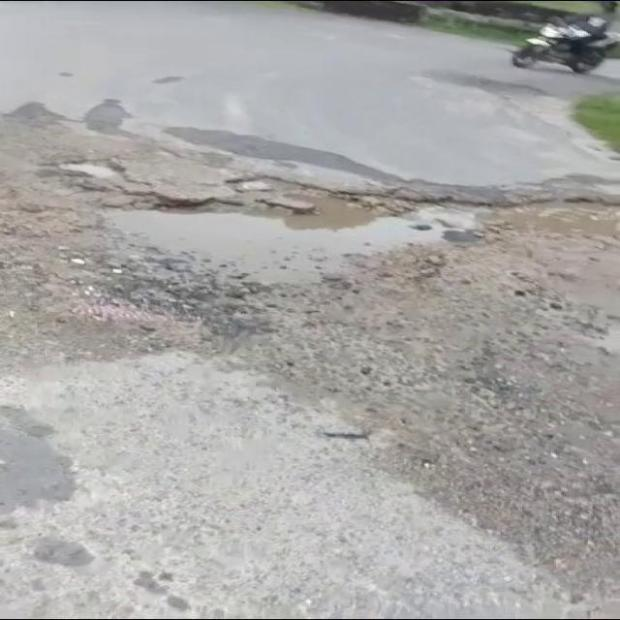lubang: (61, 162, 619, 335)
